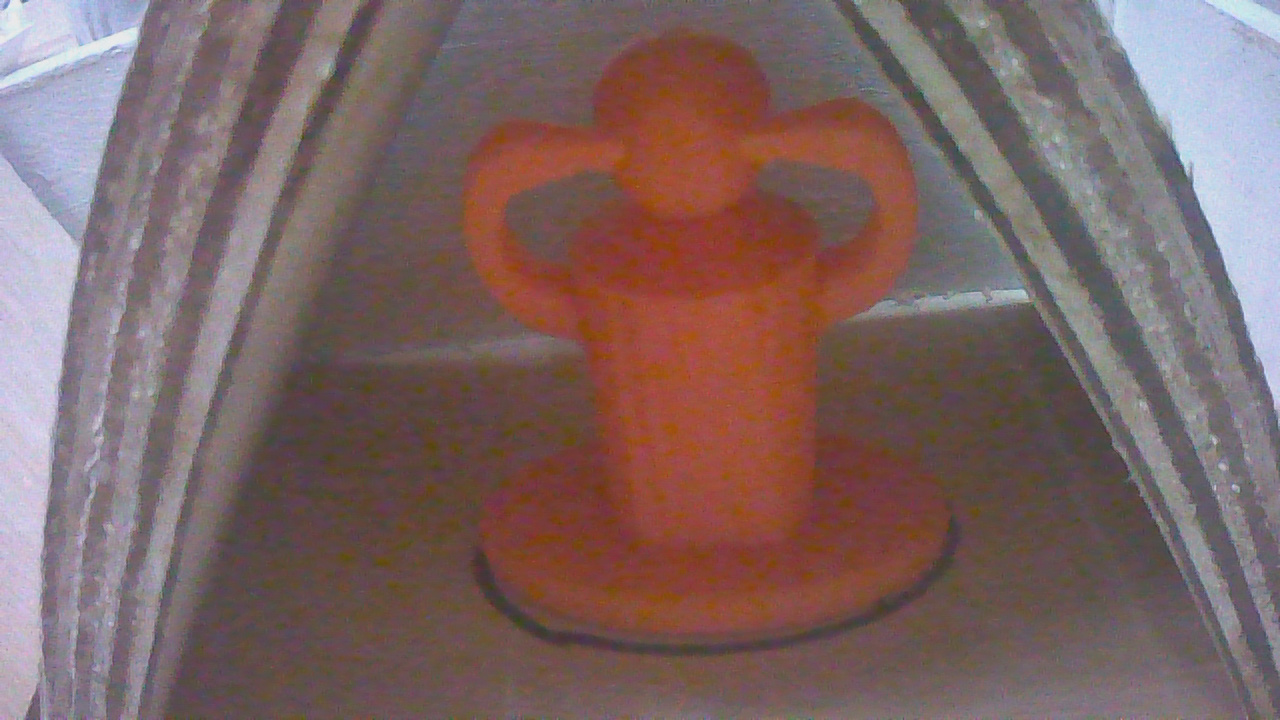real: (460, 32, 944, 655)
